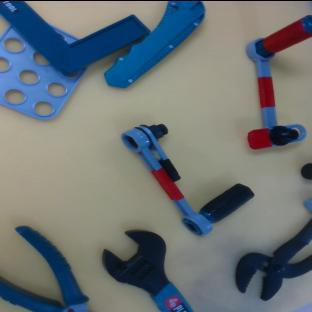non_pass: (115, 92, 256, 241)
pass: (247, 15, 312, 148)
